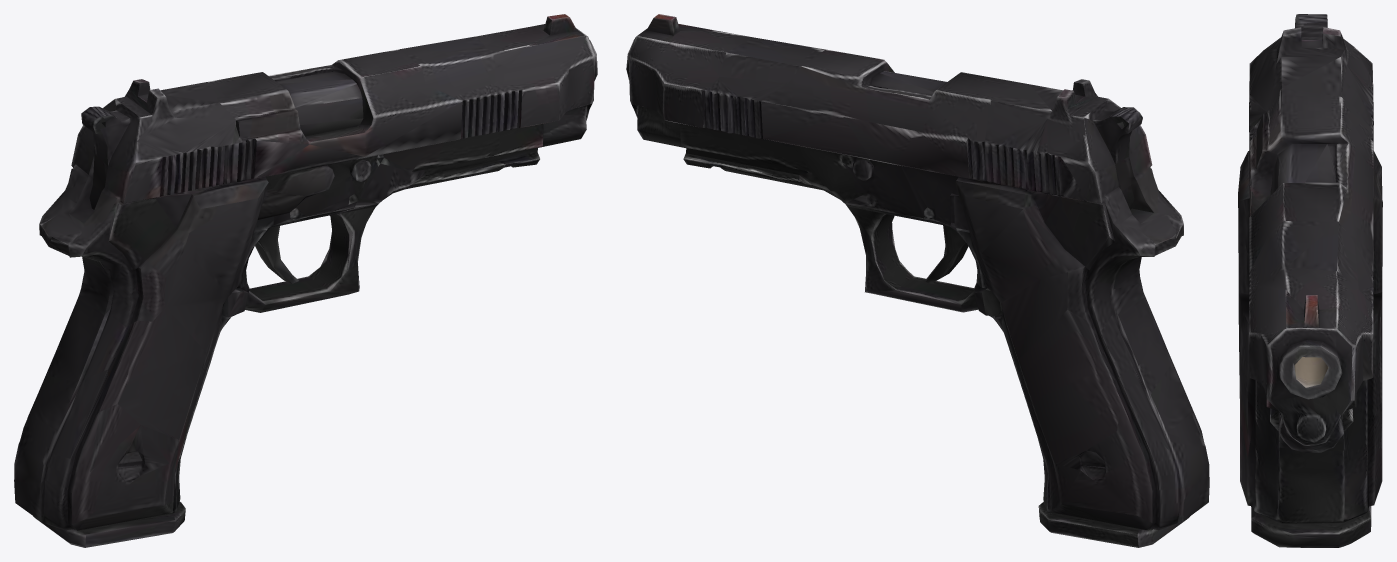
Rendered from weapon_pistol_9_mm_idle.glb.
3 renders of one model, left to right at view 1: azimuth 30°, elevation 25°; view 2: azimuth 150°, elevation 25°; view 3: azimuth 270°, elevation 25°, orthographic. The views are drawn at different scales.
Parts seen in each view (by area): view 1: tripo_node_0e38b65d-5935-446b-85e9-d316d2fd85b6; view 2: tripo_node_0e38b65d-5935-446b-85e9-d316d2fd85b6; view 3: tripo_node_0e38b65d-5935-446b-85e9-d316d2fd85b6.
Part boxes in pixels (x1=…): tripo_node_0e38b65d-5935-446b-85e9-d316d2fd85b6: x1=14, y1=14, x2=597, y2=547; tripo_node_0e38b65d-5935-446b-85e9-d316d2fd85b6: x1=626, y1=14, x2=1209, y2=547; tripo_node_0e38b65d-5935-446b-85e9-d316d2fd85b6: x1=1238, y1=14, x2=1382, y2=547.
Bounding box in the file's own units: 0.1901 × 0.1399 × 0.0362.
Materials: 1 (1 with a texture image).
